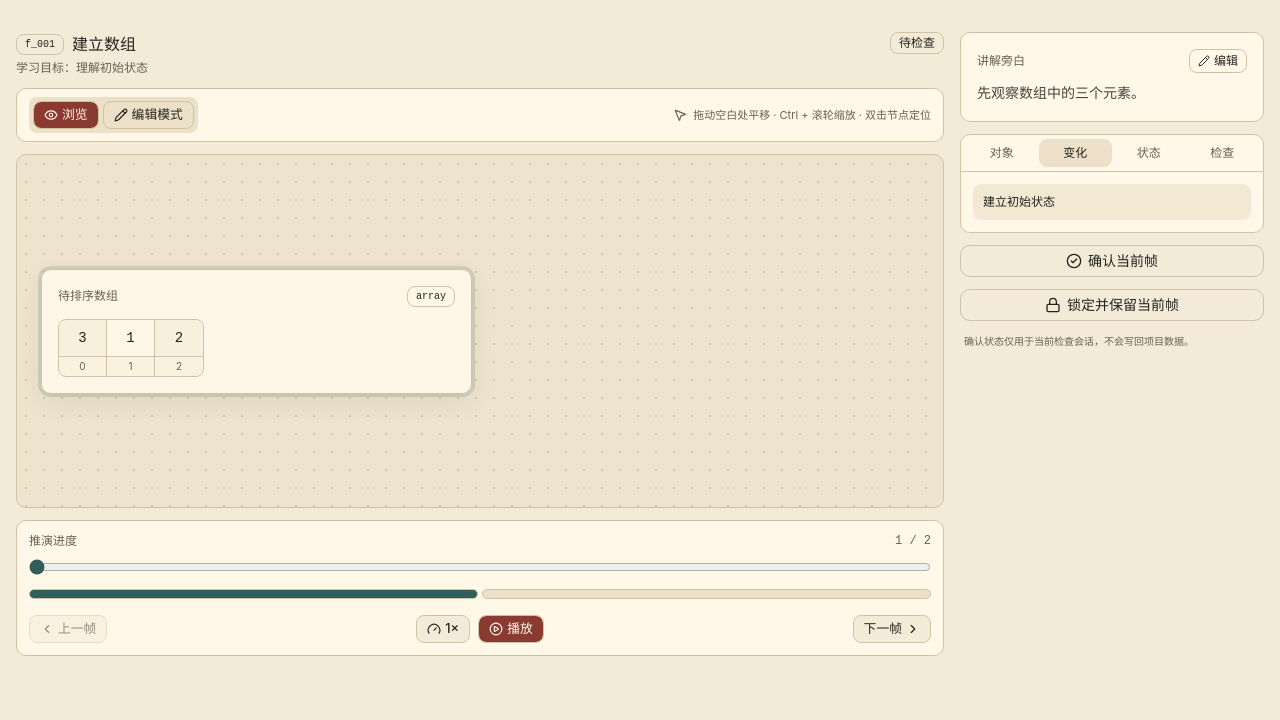
it: FrameWorkbench › keeps browsing safe and exposes direct object and timeline navigation
Click the button "编辑模式".
click(148, 115)  # box [103,101,194,129]
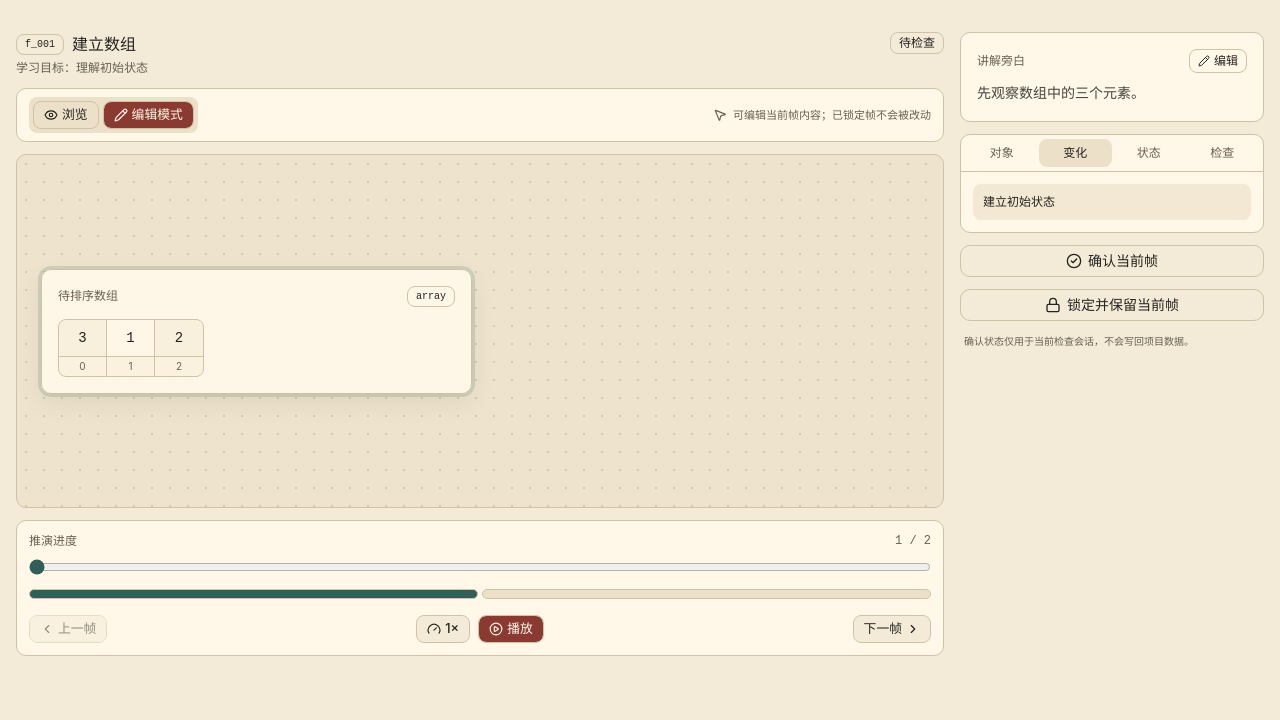
Expected: the button "编辑模式" is pressed, [103,101,194,129]
Click the button with aria-label "选择对象：待排序数组".
click(88, 296)  # box [41,268,472,394]
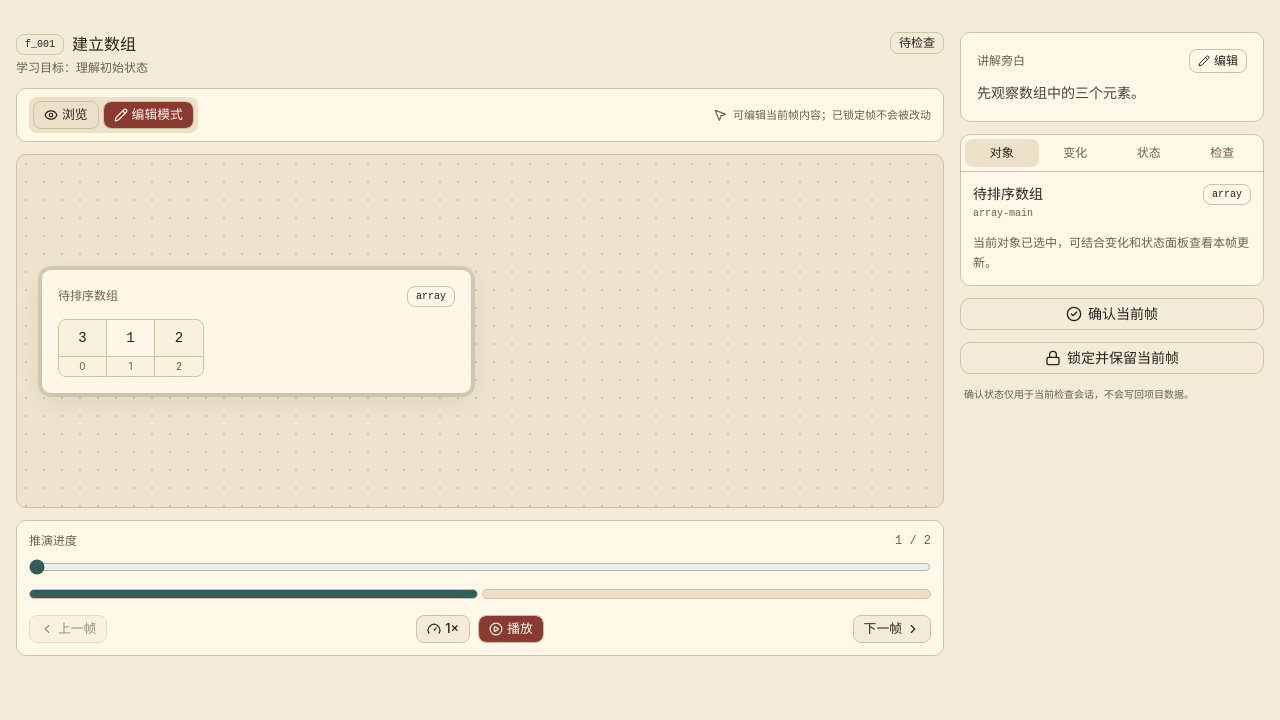
Expected: the text "array-main" is shown, [973,206,1043,221]
Click the button named "跳转到第 2 帧：交换元素".
click(706, 594)  # box [482,589,931,599]
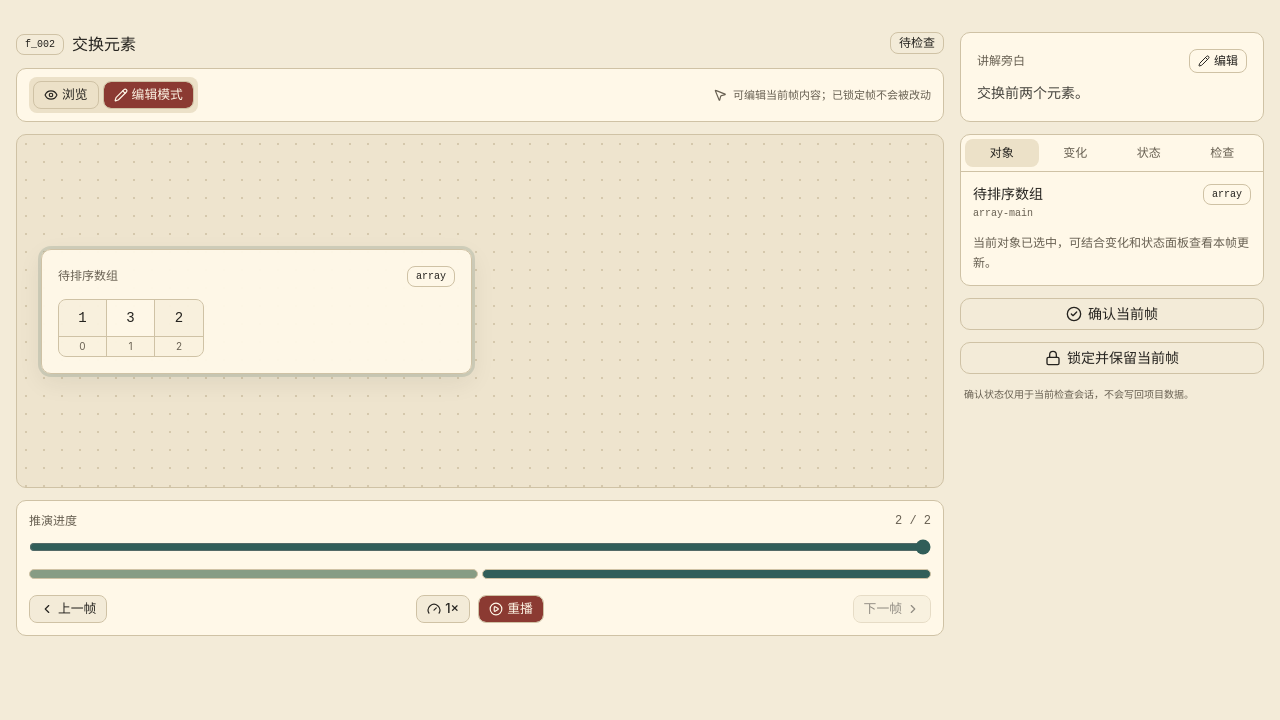
Expected: the heading "交换元素" is shown, [72,32,136,56]
